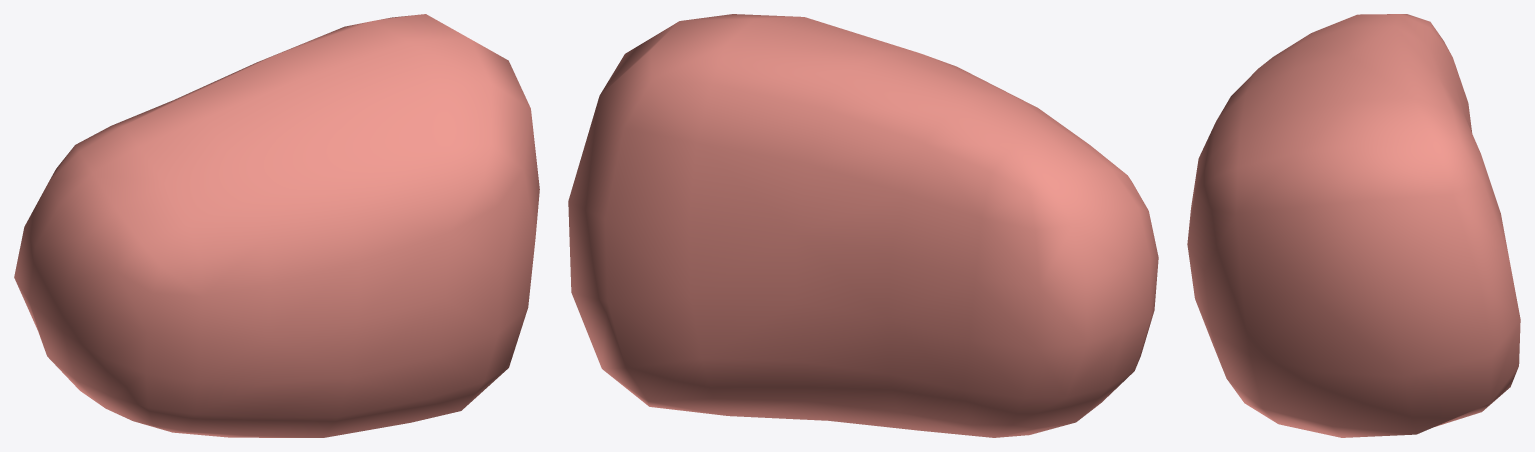
Rendered from mixamo_humanoid_surface_rightHandRing3.fbx.
3 views of the same model, side by side, from view 1: azimuth 30°, elevation 25°; view 2: azimuth 150°, elevation 25°; view 3: azimuth 270°, elevation 25° (orthographic). The views are drawn at different scales.
Visible parts, largest first — view 1: surface_RightHandRing3; view 2: surface_RightHandRing3; view 3: surface_RightHandRing3.
Part boxes in pixels (bbox=[...]): surface_RightHandRing3: bbox=[14, 14, 539, 437]; surface_RightHandRing3: bbox=[568, 14, 1158, 437]; surface_RightHandRing3: bbox=[1187, 14, 1520, 437].
Bounding box in the file's own units: 2.68 × 1.8 × 1.68.
